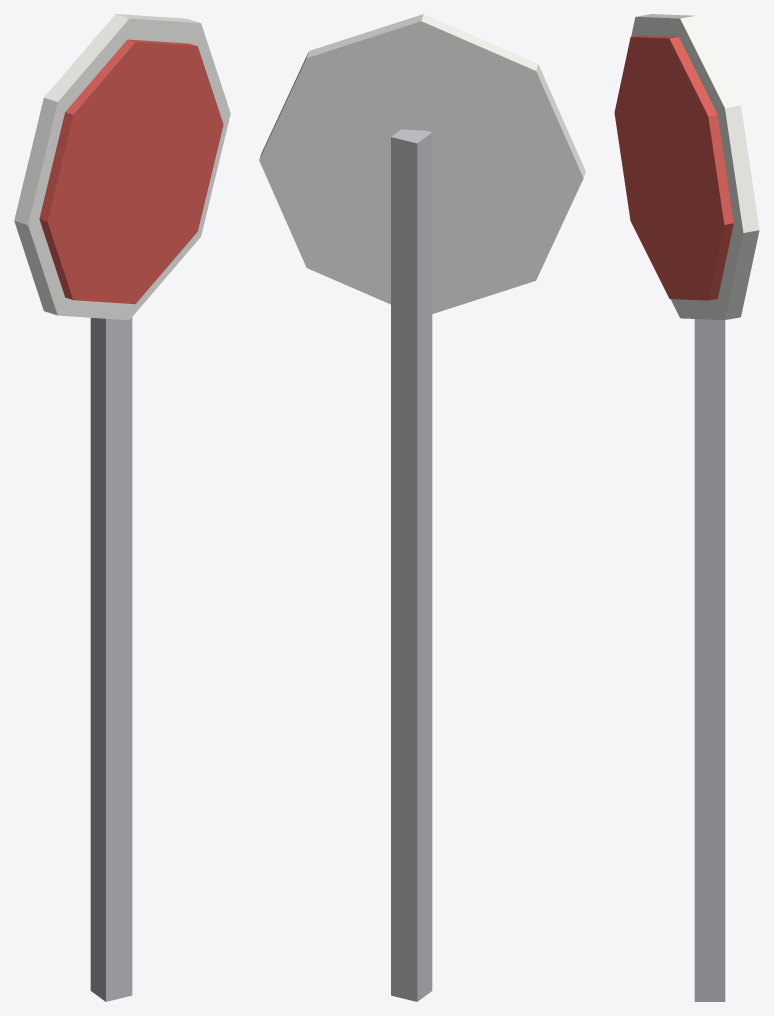
Rendered from road_sign.glb.
3 views of the same model, side by side, from view 1: azimuth 30°, elevation 25°; view 2: azimuth 150°, elevation 25°; view 3: azimuth 270°, elevation 25° (orthographic).
Parts seen in each view (by area): view 1: road_sign; view 2: road_sign; view 3: road_sign.
Part boxes in pixels (x1,y1,x2,y2): road_sign: [14, 14, 230, 1001]; road_sign: [259, 14, 585, 1001]; road_sign: [614, 14, 759, 1001].
Bounding box in the file's own units: 0.7175 × 2.48 × 0.3333.
